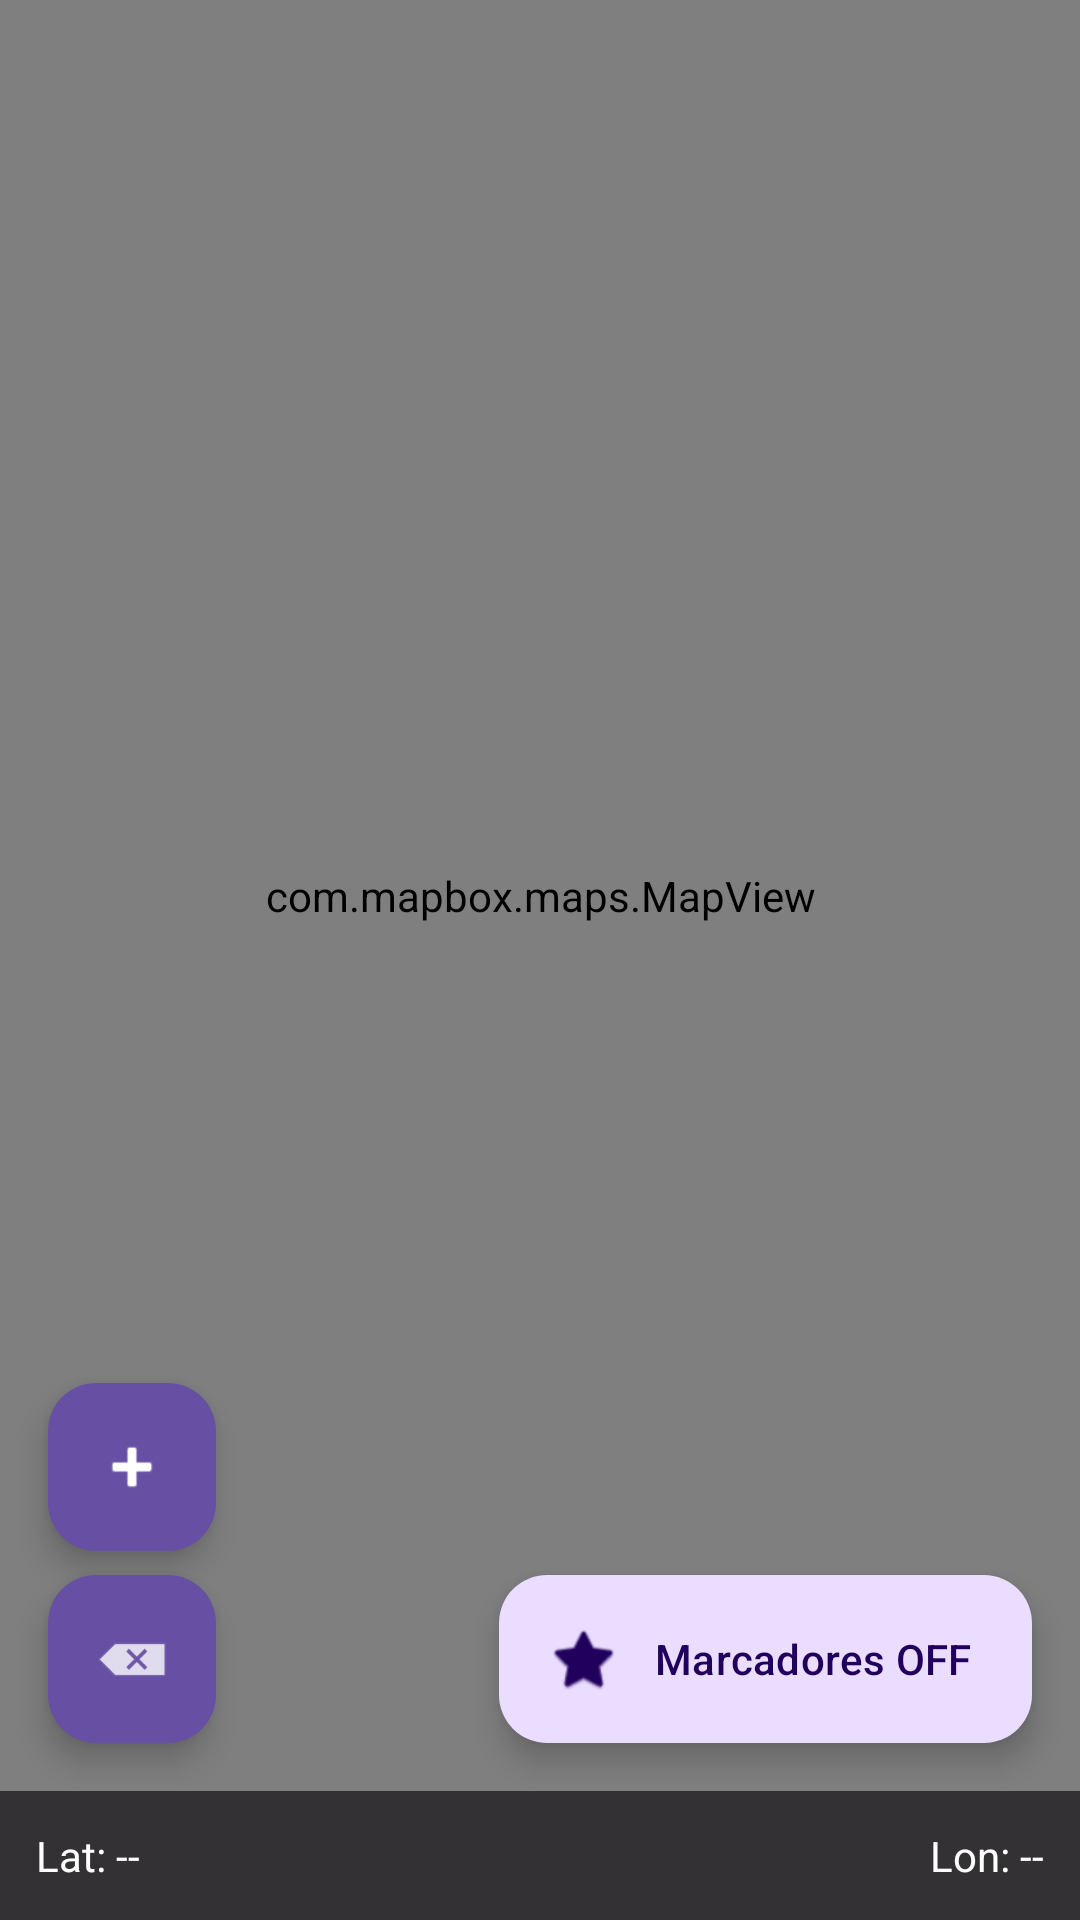

Icon click points for this 1080 x 1920 phone screenshot, format point (x, y):
add: point (132, 1467)
delete: point (132, 1659)
